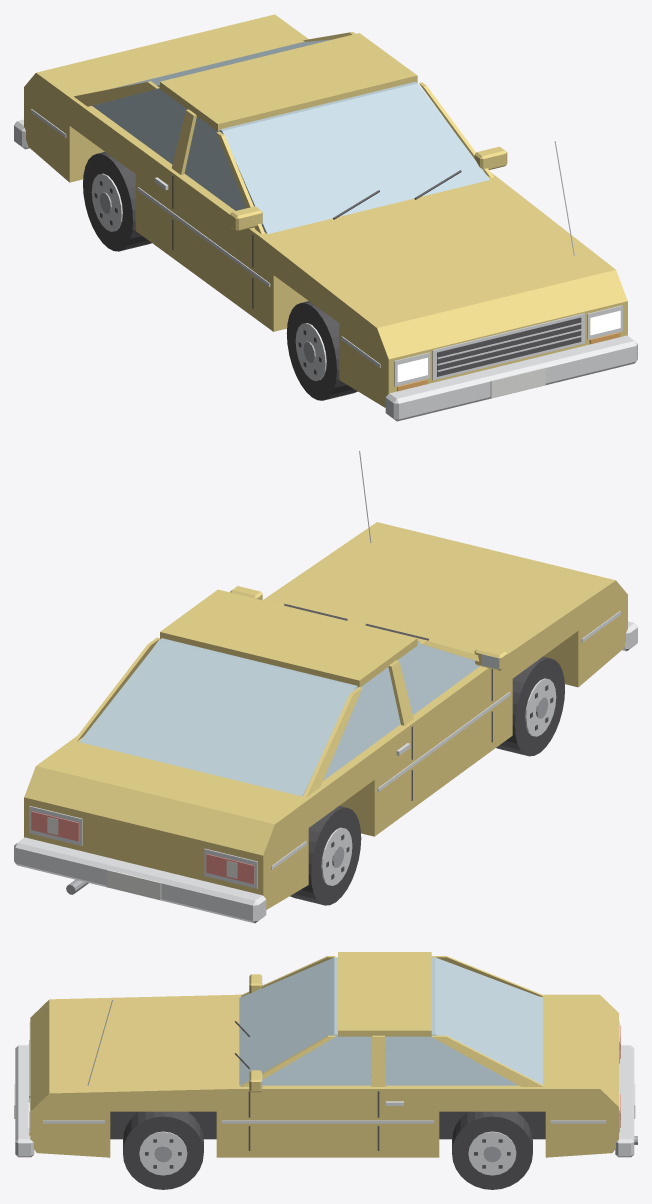
Rendered from car_coupe_y.glb.
The picture shows the model from 3 angles, top to bottom: view 1: azimuth 30°, elevation 25°; view 2: azimuth 150°, elevation 25°; view 3: azimuth 270°, elevation 25°; orthographic projection. The views are drawn at different scales.
Visible parts, largest first — view 1: car_coupe_y_car_y, car_coupe_y_glass, car_coupe_y_chrome, car_coupe_y_rubber, car_coupe_y_dark, car_coupe_y_lamp_glass, car_coupe_y_paint_w; view 2: car_coupe_y_car_y, car_coupe_y_glass, car_coupe_y_chrome, car_coupe_y_rubber, car_coupe_y_neon_r, car_coupe_y_paint_w, car_coupe_y_dark; view 3: car_coupe_y_car_y, car_coupe_y_glass, car_coupe_y_rubber, car_coupe_y_chrome, car_coupe_y_dark, car_coupe_y_steel.
Boxes of the visible parts, x1,y1,x2,y2 form: car_coupe_y_car_y: (24, 14, 627, 407); car_coupe_y_glass: (92, 39, 489, 234); car_coupe_y_chrome: (14, 109, 637, 421); car_coupe_y_rubber: (83, 152, 357, 400); car_coupe_y_dark: (94, 170, 581, 376); car_coupe_y_lamp_glass: (397, 310, 620, 382); car_coupe_y_paint_w: (490, 367, 545, 398); car_coupe_y_car_y: (24, 522, 627, 909); car_coupe_y_glass: (79, 638, 479, 796); car_coupe_y_chrome: (14, 450, 637, 923); car_coupe_y_rubber: (290, 656, 564, 905); car_coupe_y_neon_r: (31, 811, 254, 884); car_coupe_y_paint_w: (47, 817, 237, 900); car_coupe_y_dark: (284, 603, 553, 879); car_coupe_y_car_y: (30, 952, 618, 1157); car_coupe_y_glass: (239, 957, 542, 1085); car_coupe_y_rubber: (110, 1111, 545, 1189); car_coupe_y_chrome: (15, 1000, 634, 1175); car_coupe_y_dark: (29, 1021, 510, 1168); car_coupe_y_steel: (154, 1136, 637, 1162).
Bounding box in the file's own units: 2 × 1.6 × 4.93.
